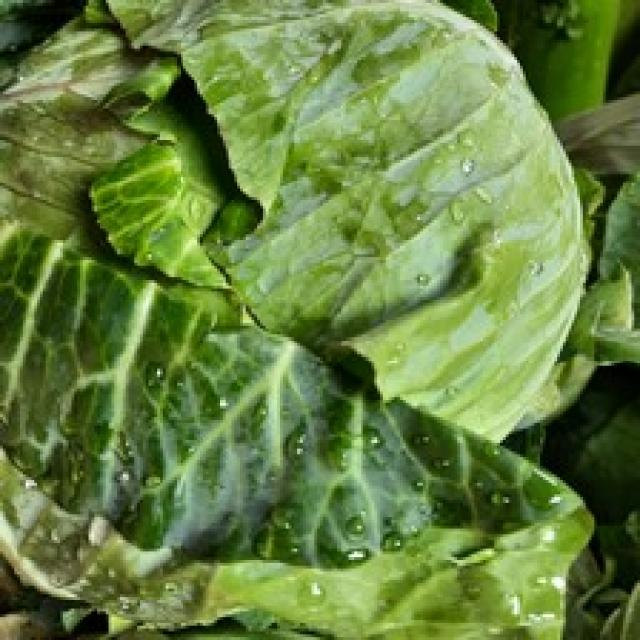Cabbage: (12, 0, 591, 640)
